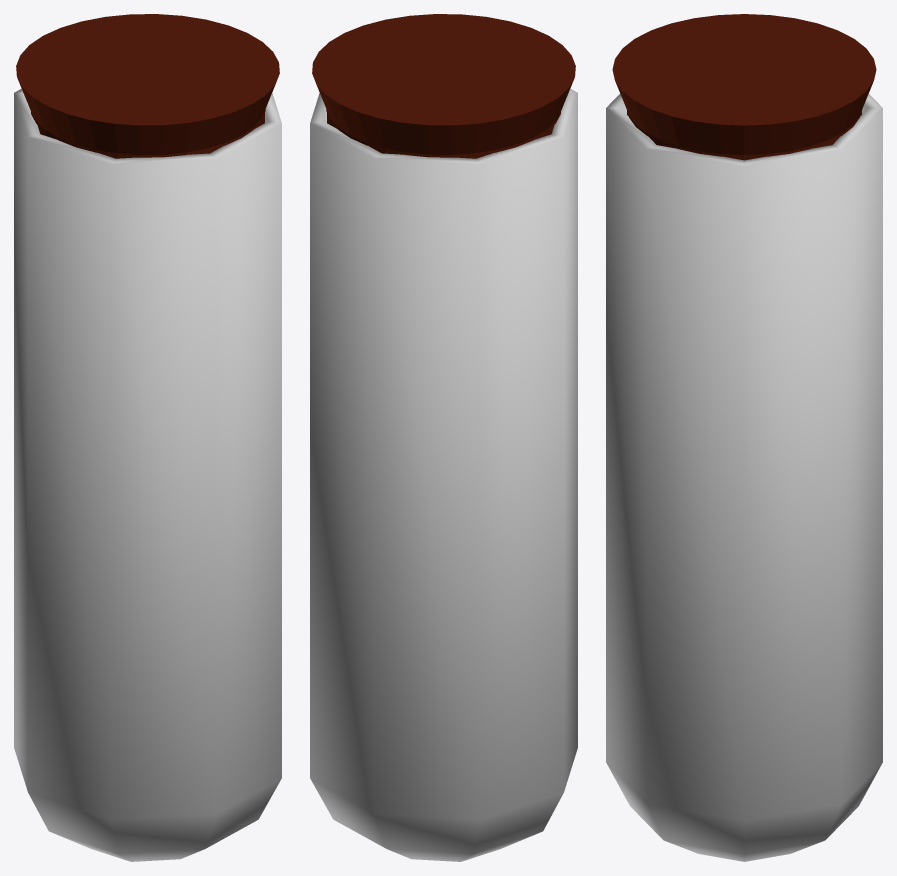
The model's file is DrugsSample.obj.
3 views of the same model, side by side, from view 1: azimuth 30°, elevation 25°; view 2: azimuth 150°, elevation 25°; view 3: azimuth 270°, elevation 25° (orthographic).
Parts seen in each view (by area): view 1: bottle_glassware_boiling_tube_large, Cylinder; view 2: bottle_glassware_boiling_tube_large, Cylinder; view 3: bottle_glassware_boiling_tube_large, Cylinder.
Part boxes in pixels (x1=…): bottle_glassware_boiling_tube_large: x1=14, y1=89, x2=281, y2=861; Cylinder: x1=16, y1=14, x2=279, y2=158; bottle_glassware_boiling_tube_large: x1=310, y1=89, x2=577, y2=861; Cylinder: x1=312, y1=14, x2=575, y2=158; bottle_glassware_boiling_tube_large: x1=606, y1=94, x2=882, y2=861; Cylinder: x1=612, y1=14, x2=876, y2=160.
Size of the model in its own units: 7.76 by 23.66 by 7.76.
